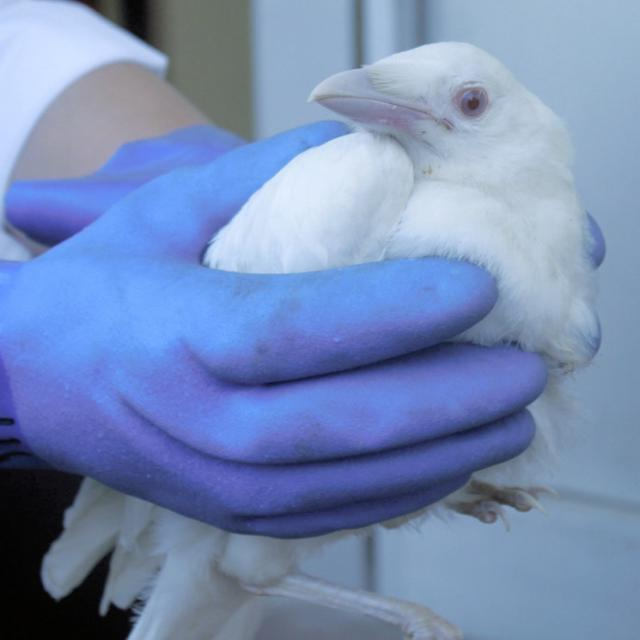crow: (38, 38, 609, 640)
